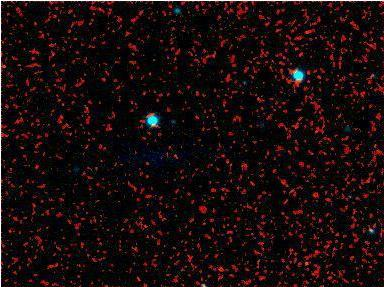star: (292, 249, 322, 279)
